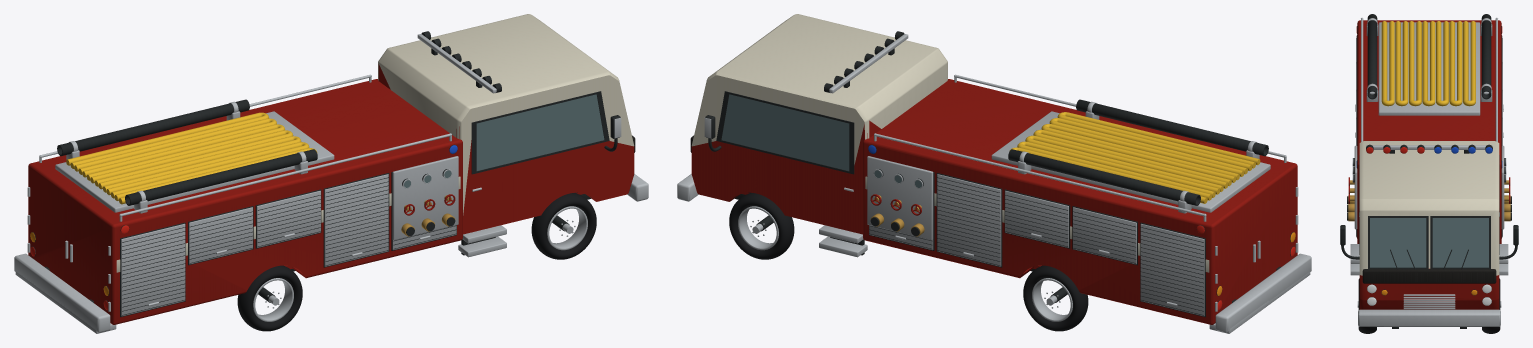
File: engine-07.glb
3 views of the same model, side by side, from view 1: azimuth 30°, elevation 25°; view 2: azimuth 150°, elevation 25°; view 3: azimuth 270°, elevation 25° (orthographic). The views are drawn at different scales.
Parts seen in each view (by area): view 1: Engine Company 07 pumper; view 2: Engine Company 07 pumper; view 3: Engine Company 07 pumper.
Boxes of the visible parts, bbox=[...] form: Engine Company 07 pumper: bbox=[14, 14, 648, 333]; Engine Company 07 pumper: bbox=[677, 14, 1311, 333]; Engine Company 07 pumper: bbox=[1340, 14, 1518, 333].
Size of the model in its own units: 9.28 by 3.04 by 3.1.
Materials: 14 (14 with a texture image).
